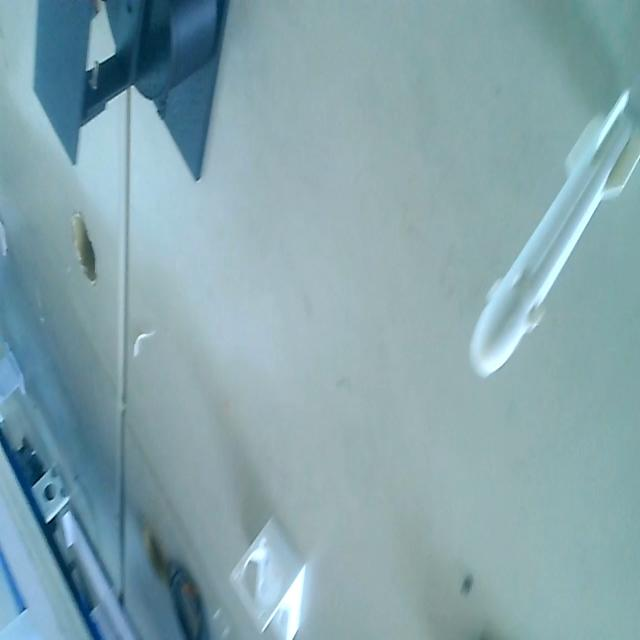Rocket: (467, 80, 640, 389)
